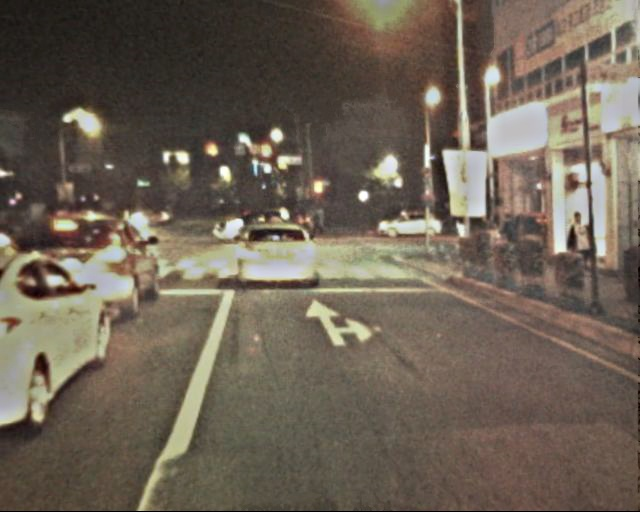person: (567, 212, 591, 280), (498, 214, 519, 266), (454, 214, 474, 260), (305, 204, 341, 228)
